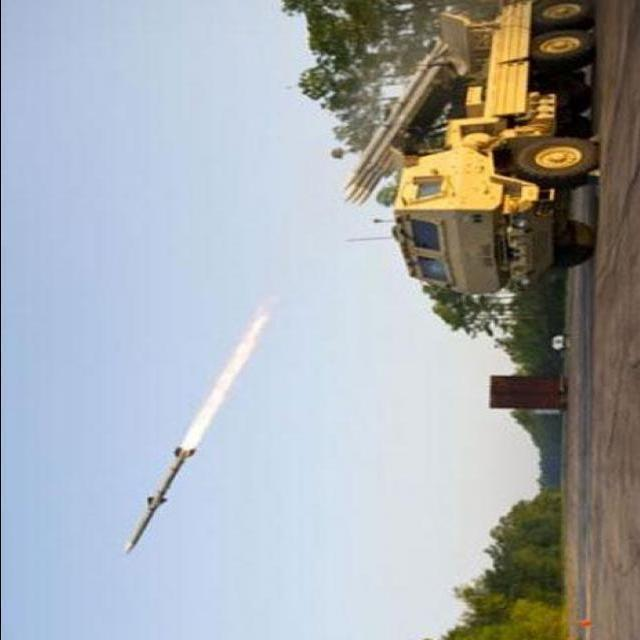missile: (122, 444, 200, 555)
